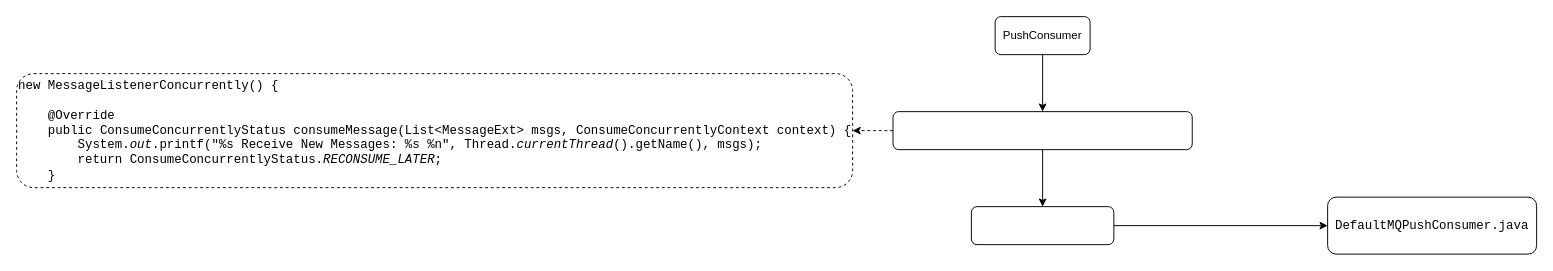
Image size: 1553x271. Some labels were removed from this diagram. Here are the shapes that lost their labels. From the top down, the centre of each, then its label:
pixel 1042 130: consumer.registerMessageListener()
pixel 1042 225: consumer.start();
